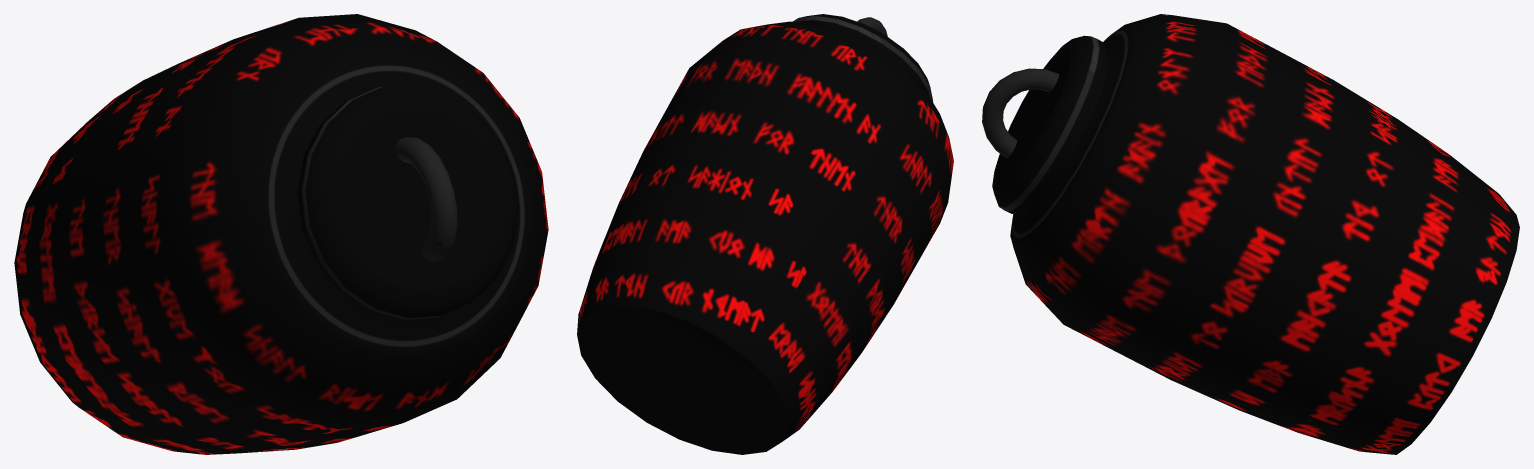
File: Urn_shooting_2.obj
The picture shows the model from 3 angles, left to right: view 1: azimuth 30°, elevation 25°; view 2: azimuth 150°, elevation 25°; view 3: azimuth 270°, elevation 25°; orthographic projection. The views are drawn at different scales.
Visible parts, largest first — view 1: Undertaker_4:Undertaker_4:Urn; view 2: Undertaker_4:Undertaker_4:Urn; view 3: Undertaker_4:Undertaker_4:Urn.
Boxes of the visible parts, x1,y1,x2,y2 form: Undertaker_4:Undertaker_4:Urn: (14,14,548,454); Undertaker_4:Undertaker_4:Urn: (577,14,953,454); Undertaker_4:Undertaker_4:Urn: (982,14,1519,454).
Bounding box in the file's own units: 0.4718 × 0.6233 × 0.7371.
1 material, 1 textured.
